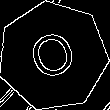O_S: (24, 25, 83, 87)
